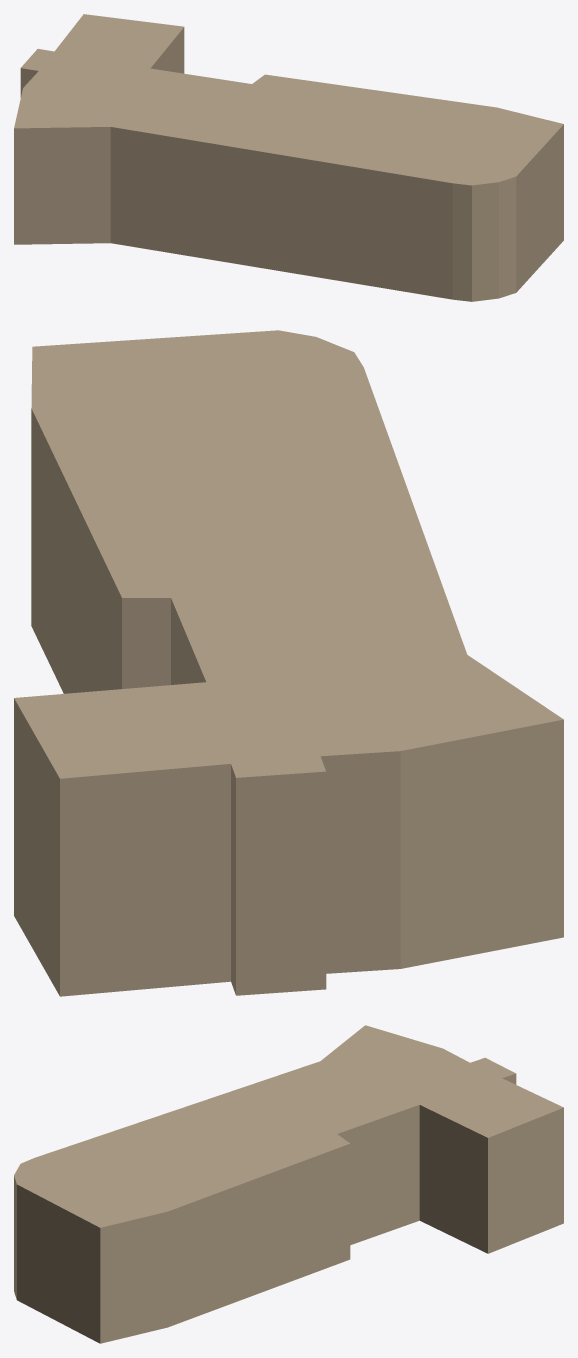
Rendered from bld_99532048.dae.
3 views of the same model, one above another, from view 1: azimuth 30°, elevation 25°; view 2: azimuth 150°, elevation 25°; view 3: azimuth 270°, elevation 25° (orthographic). The views are drawn at different scales.
Visible parts, largest first — view 1: bld_99532048; view 2: bld_99532048; view 3: bld_99532048.
Part boxes in pixels (x1,y1,x2,y2): bld_99532048: (14,14,563,301); bld_99532048: (14,330,563,996); bld_99532048: (14,1025,563,1343).
Size of the model in its own units: 30 by 34.4 by 8.
